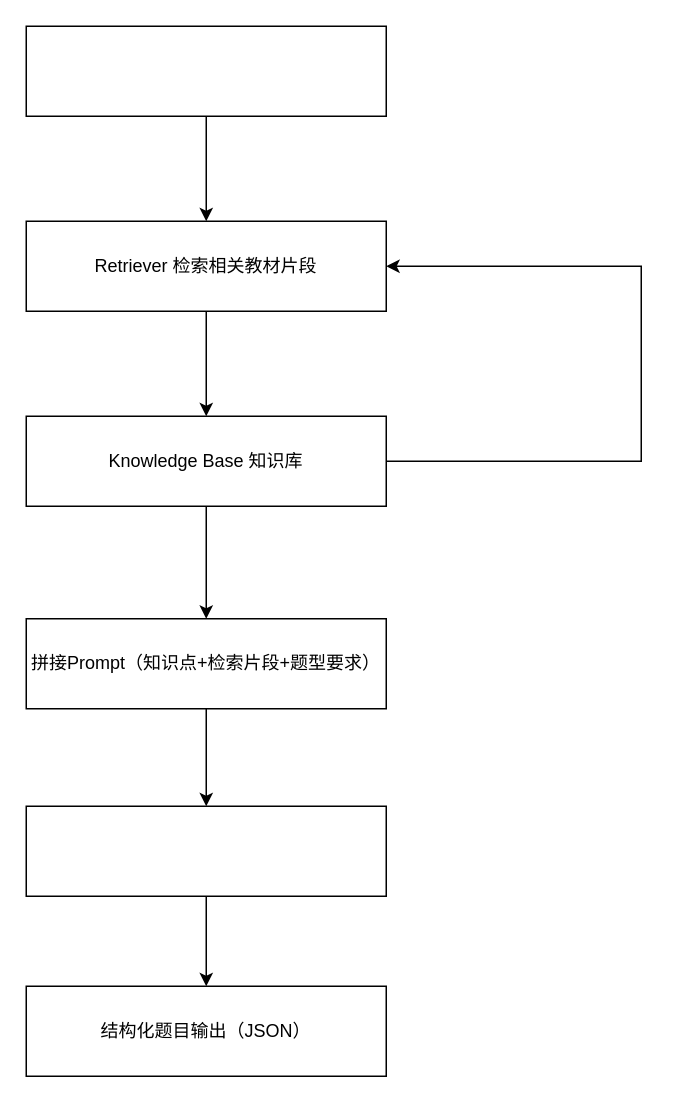
The diagram is 680 pixels wide and 1103 high, and some of its shapes have lost their labels. Here are the shapes that lost their labels. From the top down, the centre of each, then its label:
At (x=205, y=70): "学生输入知识点".
At (x=205, y=850): "LLM生成题目".
